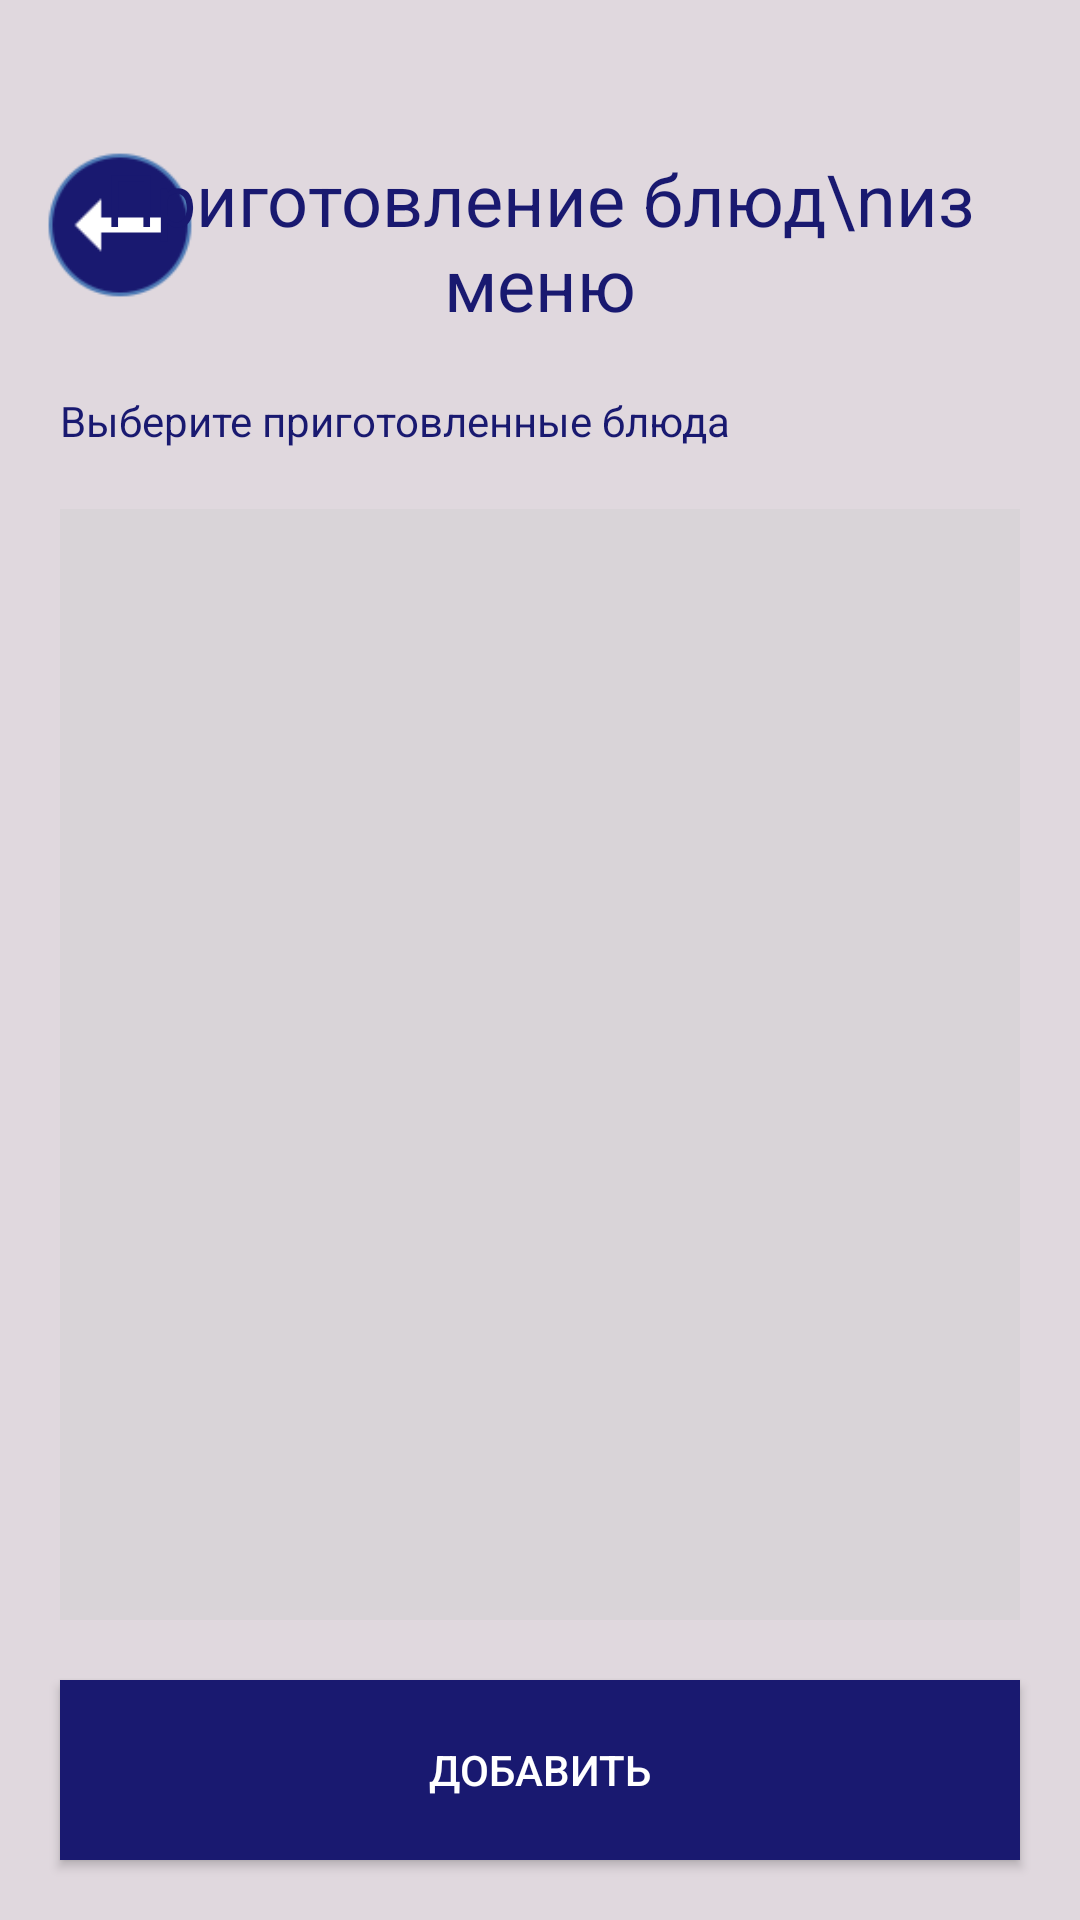

Locate icon controls on the screen. Image size 1080 x 1920, boxes as rect(x1, y1, x2, y2).
back: rect(48, 153, 193, 297)
